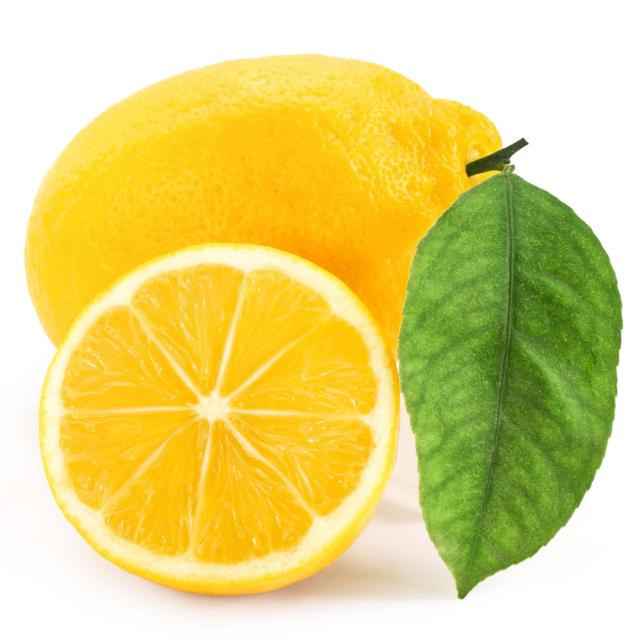lemon: (29, 234, 407, 606)
